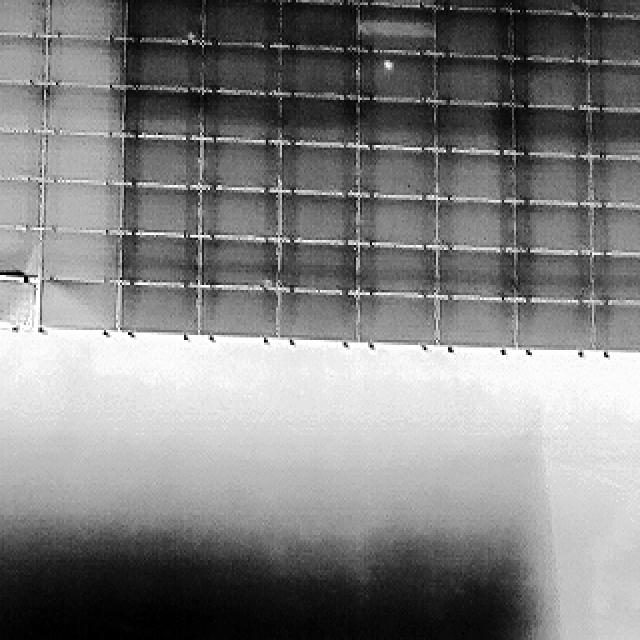Hotspots: (379, 56, 400, 72), (178, 33, 202, 46)
PV-modules: (35, 277, 121, 330), (38, 229, 120, 284), (276, 290, 357, 344), (198, 287, 279, 341), (510, 301, 594, 353), (118, 281, 200, 334), (119, 235, 200, 288), (514, 252, 598, 303), (200, 237, 280, 290), (280, 142, 360, 195), (359, 244, 440, 296), (359, 296, 440, 348), (278, 244, 358, 296), (199, 138, 279, 190), (278, 194, 359, 245), (41, 130, 120, 182), (280, 47, 359, 99), (118, 86, 200, 136), (199, 187, 279, 238), (279, 99, 359, 150), (513, 202, 596, 251), (121, 40, 202, 90), (513, 108, 594, 158), (360, 194, 439, 245), (359, 146, 438, 197), (118, 186, 200, 235), (119, 136, 201, 185), (434, 247, 511, 299), (435, 300, 515, 350), (508, 16, 588, 66), (40, 182, 118, 233), (200, 44, 279, 94), (514, 158, 596, 206), (359, 52, 436, 103), (280, 0, 358, 50), (201, 93, 279, 143), (41, 84, 120, 133), (432, 103, 511, 152), (358, 102, 435, 152), (358, 4, 435, 54), (430, 11, 510, 59), (434, 152, 510, 202), (510, 60, 589, 108), (43, 39, 120, 88), (434, 197, 509, 247), (432, 54, 510, 102), (200, 0, 278, 42), (122, 0, 202, 38), (44, 0, 122, 38), (589, 17, 640, 68), (591, 109, 640, 160), (592, 158, 640, 210), (592, 302, 640, 354), (591, 60, 640, 109), (592, 252, 640, 302), (593, 203, 640, 254), (0, 125, 42, 180), (0, 35, 44, 85), (0, 175, 40, 230), (0, 78, 42, 130), (0, 228, 34, 280), (0, 273, 32, 325), (0, 0, 46, 35), (506, 0, 584, 15), (586, 0, 640, 18), (434, 0, 510, 10), (356, 0, 436, 8), (280, 0, 358, 5), (202, 0, 280, 2)
